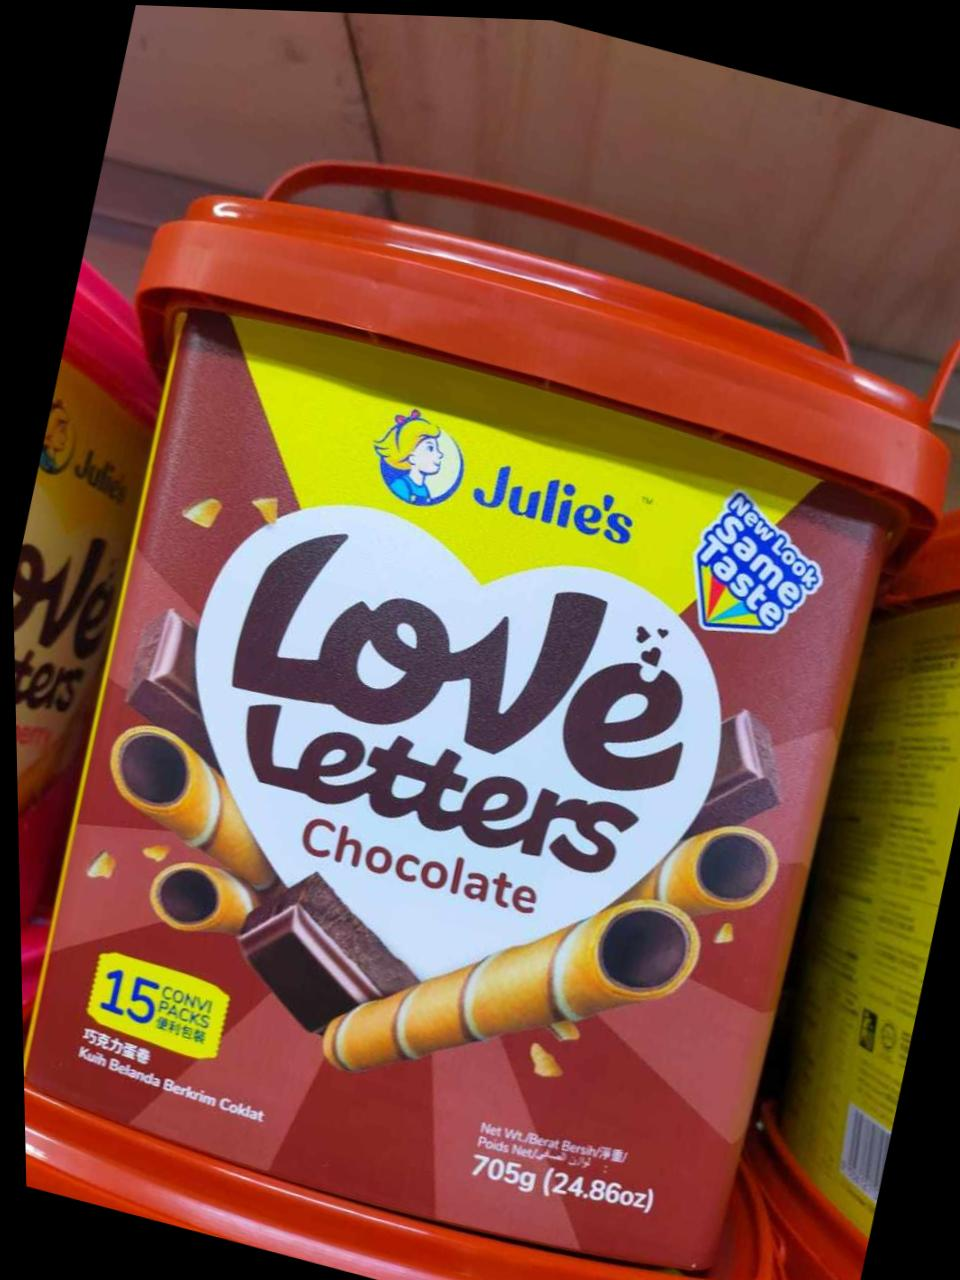plastic: (1, 68, 960, 1280)
